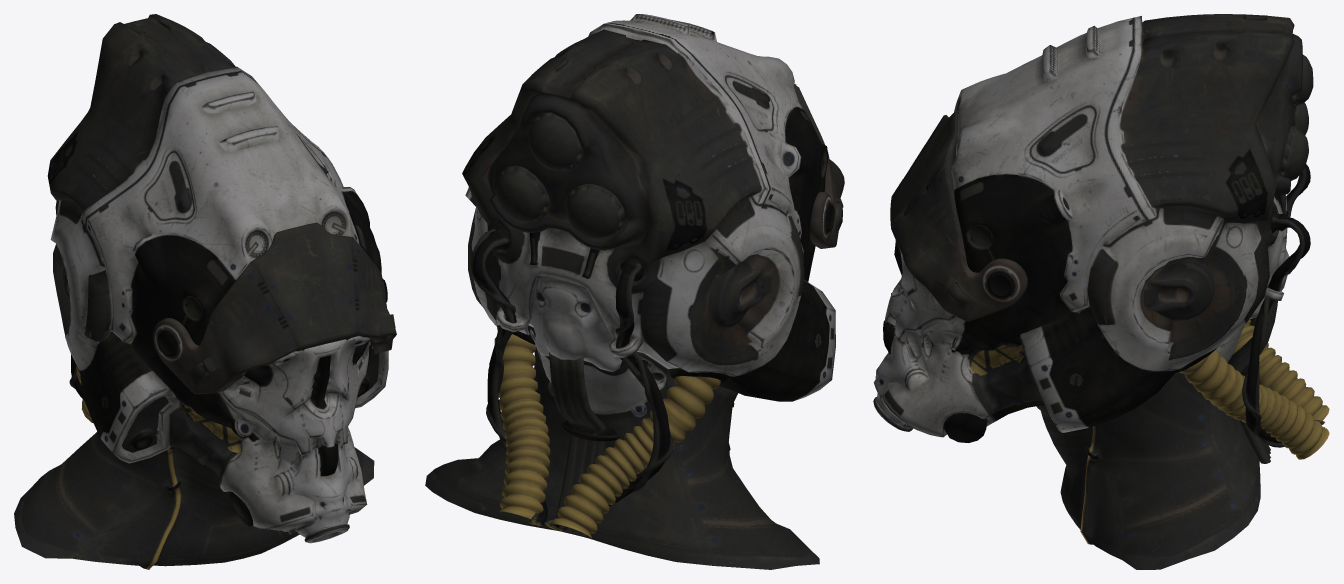
The model's file is SciFiHelmet.gltf.
3 renders of one model, left to right at view 1: azimuth 30°, elevation 25°; view 2: azimuth 150°, elevation 25°; view 3: azimuth 270°, elevation 25°, orthographic. The views are drawn at different scales.
Parts seen in each view (by area): view 1: SciFiHelmet; view 2: SciFiHelmet; view 3: SciFiHelmet.
Part boxes in pixels (x1=…): SciFiHelmet: x1=14, y1=14, x2=396, y2=569; SciFiHelmet: x1=425, y1=14, x2=844, y2=569; SciFiHelmet: x1=873, y1=14, x2=1329, y2=569.
Bounding box in the file's own units: 2.3 × 2.92 × 2.5.
1 material, 1 textured.
